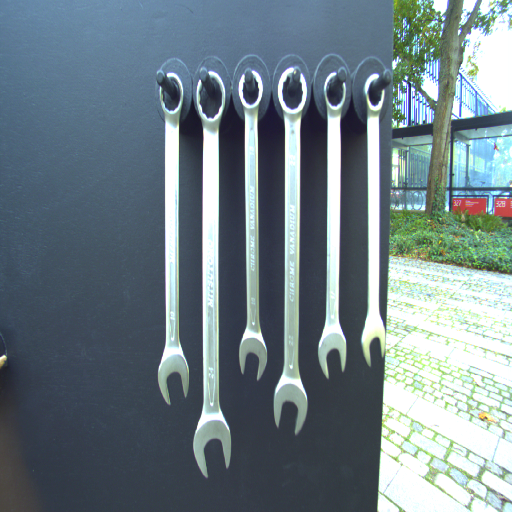bottom: (191, 412, 235, 480), (272, 376, 308, 437), (156, 345, 191, 406), (316, 328, 349, 383), (237, 327, 270, 381), (359, 317, 388, 369)
top: (193, 69, 228, 128), (276, 67, 309, 122), (237, 68, 265, 119), (155, 71, 186, 116), (321, 66, 349, 114), (361, 70, 387, 118)
